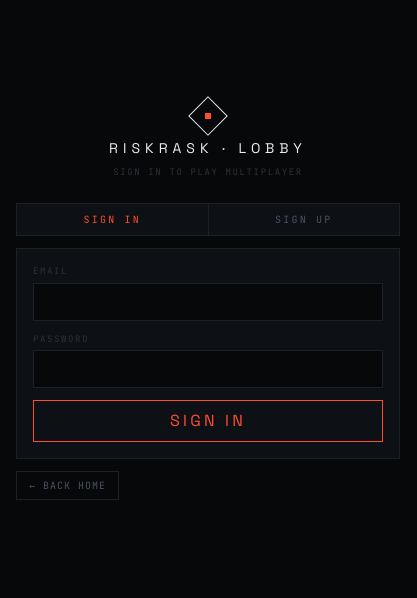
Test: AuthPanel (Supabase configured) › blocks sign-up with an invalid username
The width and height of the screenshot is (417, 598).
Click the button with test id "tab-signup".
click(304, 220)  # box [208,204,399,235]
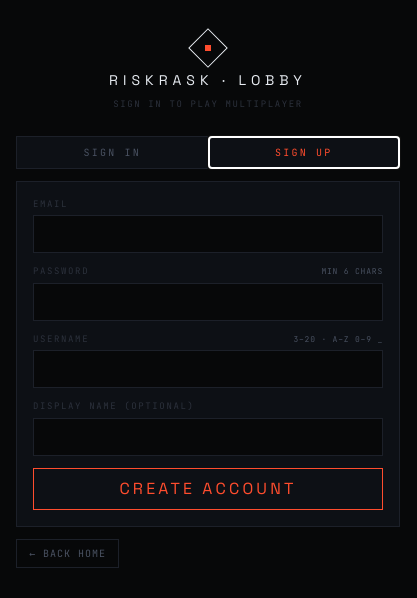
Type "p@e.com" into the field with test id "signup-email".
click(208, 234); type("p@e.com")  # box [33,215,383,253]
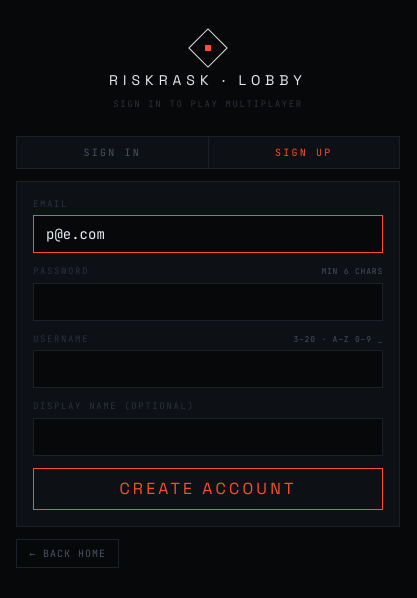
Type "hunter22" into the password field with test id "signup-password".
click(208, 302); type("hunter22")  # box [33,283,383,321]
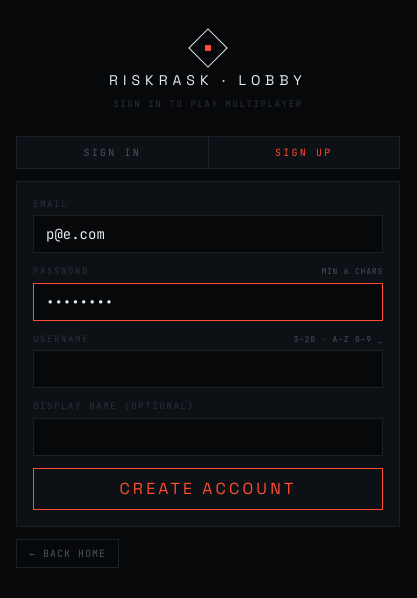
Type "no" into the field with test id "signup-username".
click(208, 369); type("no")  # box [33,350,383,388]
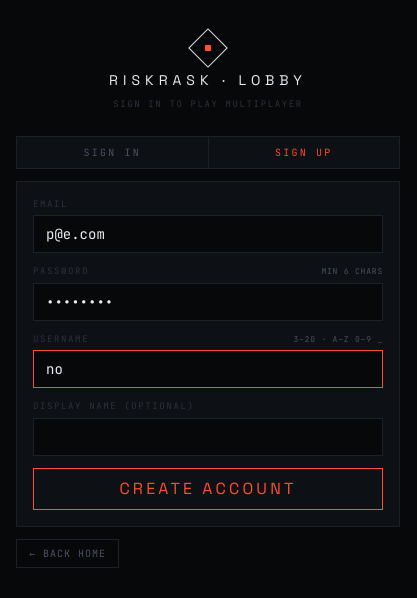
Click the button with test id "signup-submit".
click(208, 489)  # box [33,468,383,510]
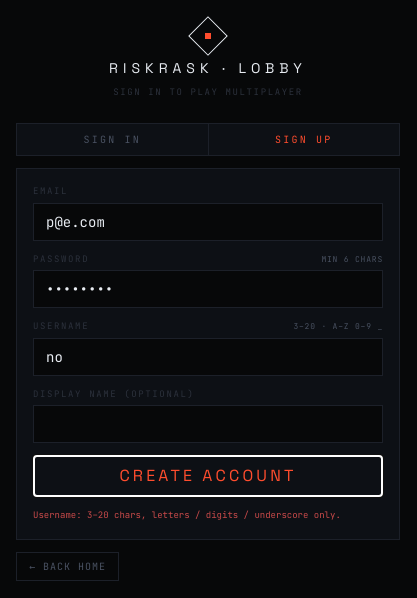
Expected: the text "Username: 3–20 chars, letters / digits / underscore only." is shown, [33,509,383,522]
